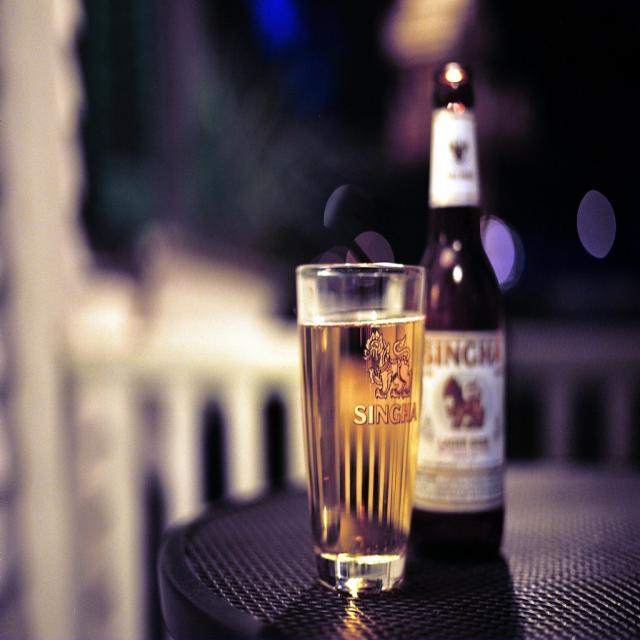singha: (419, 338, 507, 477), (350, 331, 423, 429)
